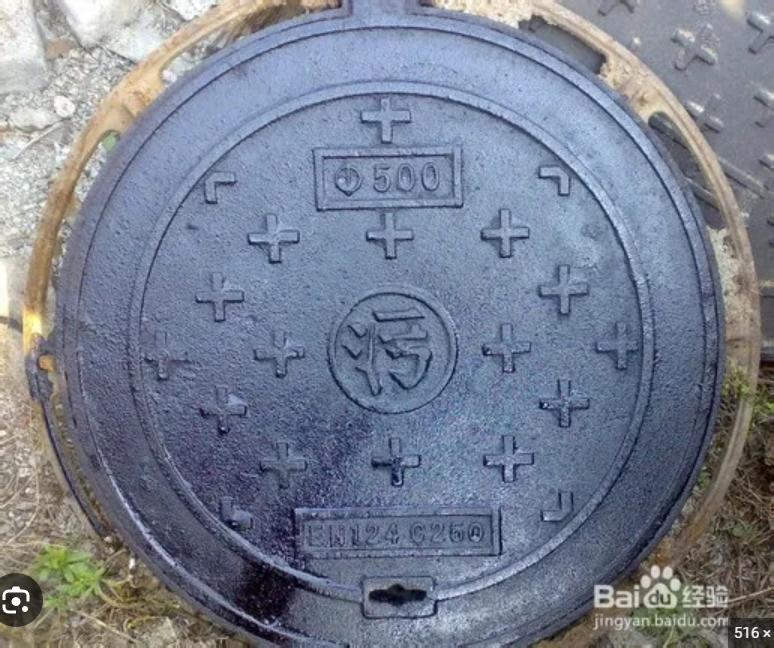wellcover: (49, 22, 705, 639)
